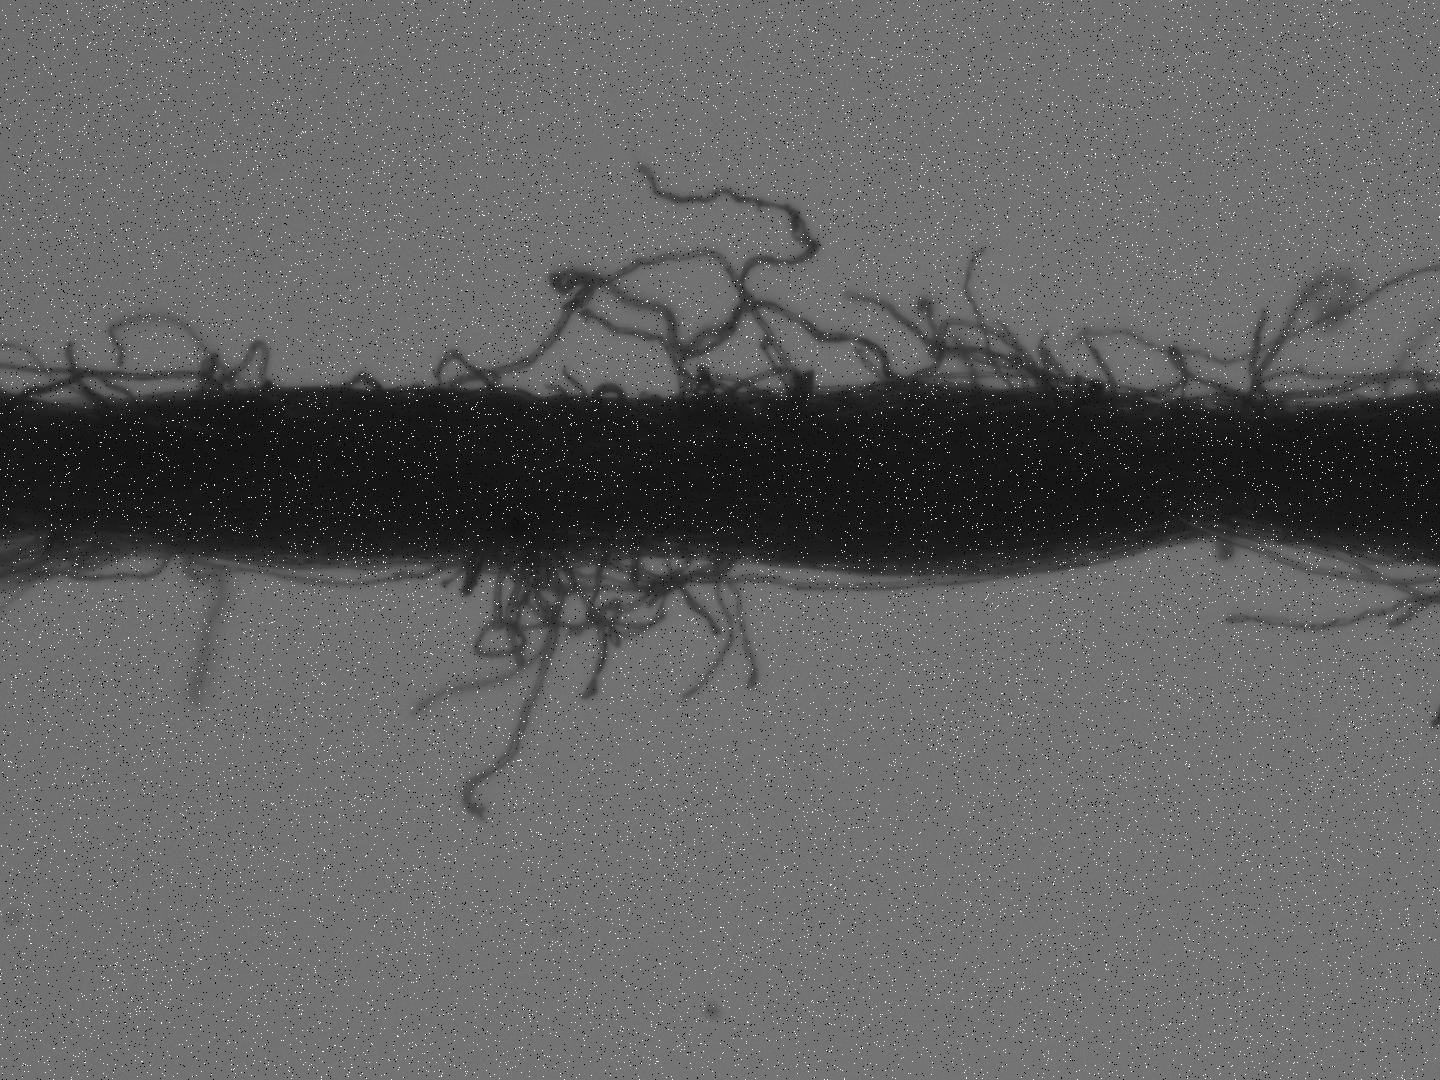loop_fiber: (473, 534, 667, 659), (486, 531, 735, 597), (910, 314, 1053, 393), (194, 554, 460, 590), (12, 535, 183, 585), (1141, 339, 1256, 406), (561, 535, 704, 588), (35, 362, 144, 408), (201, 335, 280, 394), (431, 347, 500, 393), (718, 365, 815, 395), (332, 366, 389, 389), (588, 378, 630, 397)
protruding_fiber: (1077, 321, 1123, 399)
